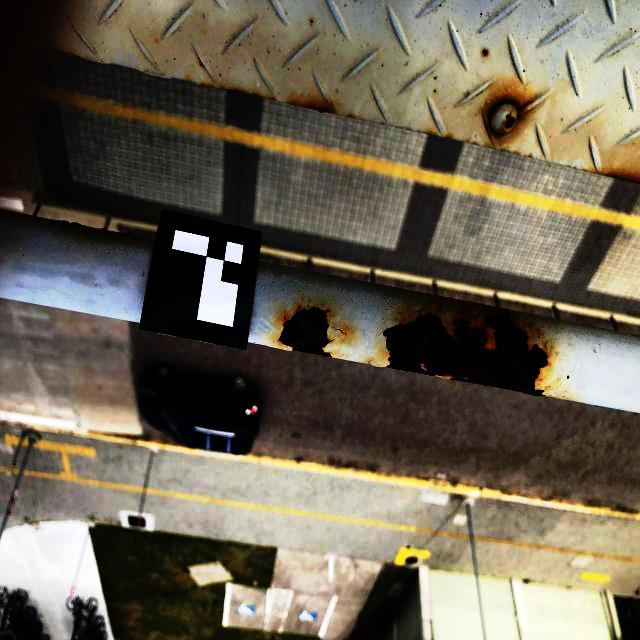Corrosion: (384, 313, 549, 396), (279, 307, 331, 357), (487, 98, 525, 118), (291, 100, 333, 113), (609, 170, 640, 184), (504, 113, 517, 130)
